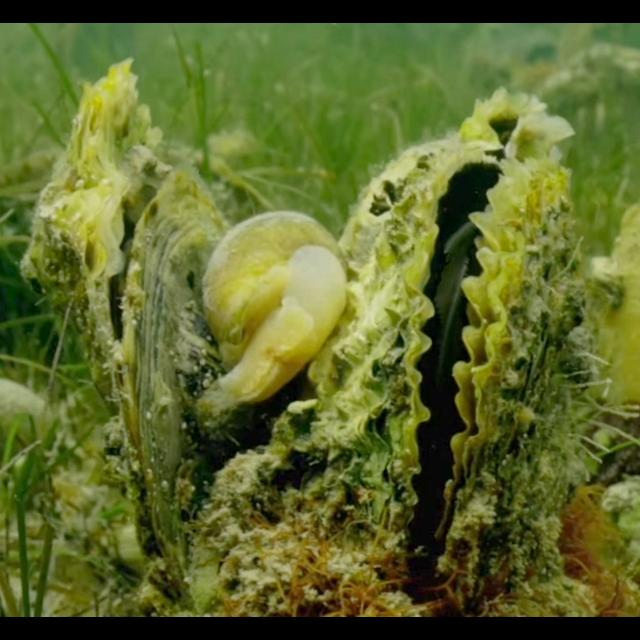Oyster-Open: (304, 90, 596, 604), (20, 56, 230, 604)
